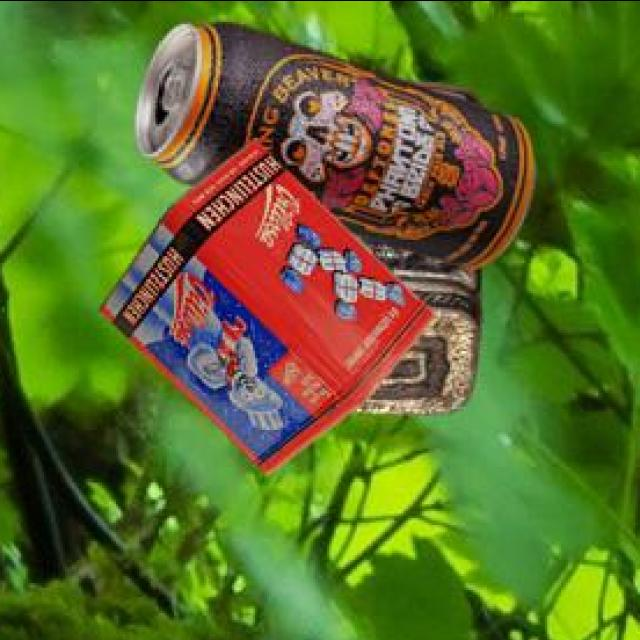logam: (103, 133, 437, 470), (138, 17, 539, 263), (356, 78, 486, 409)
